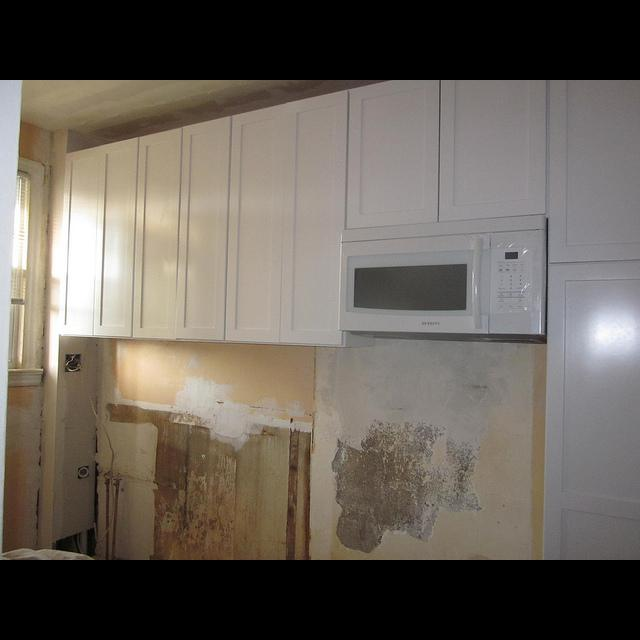Microwave: (335, 215, 558, 349)
